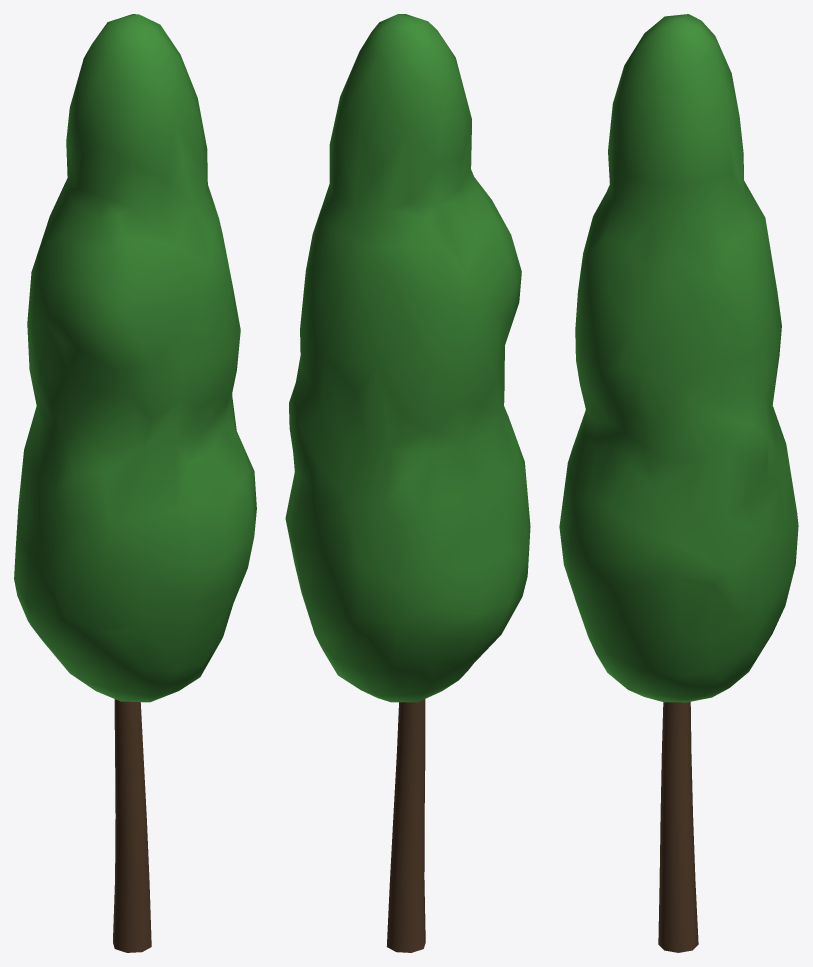
Rendered from tree_poplar.glb.
The picture shows the model from 3 angles, left to right: view 1: azimuth 30°, elevation 25°; view 2: azimuth 150°, elevation 25°; view 3: azimuth 270°, elevation 25°; orthographic projection.
Parts seen in each view (by area): view 1: tree_poplar; view 2: tree_poplar; view 3: tree_poplar.
Part boxes in pixels (left/top/right/bottom): tree_poplar: left=14, top=14, right=256, bottom=952; tree_poplar: left=285, top=14, right=530, bottom=952; tree_poplar: left=559, top=14, right=798, bottom=952.
Size of the model in its own units: 2.41 by 10.18 by 2.38.
